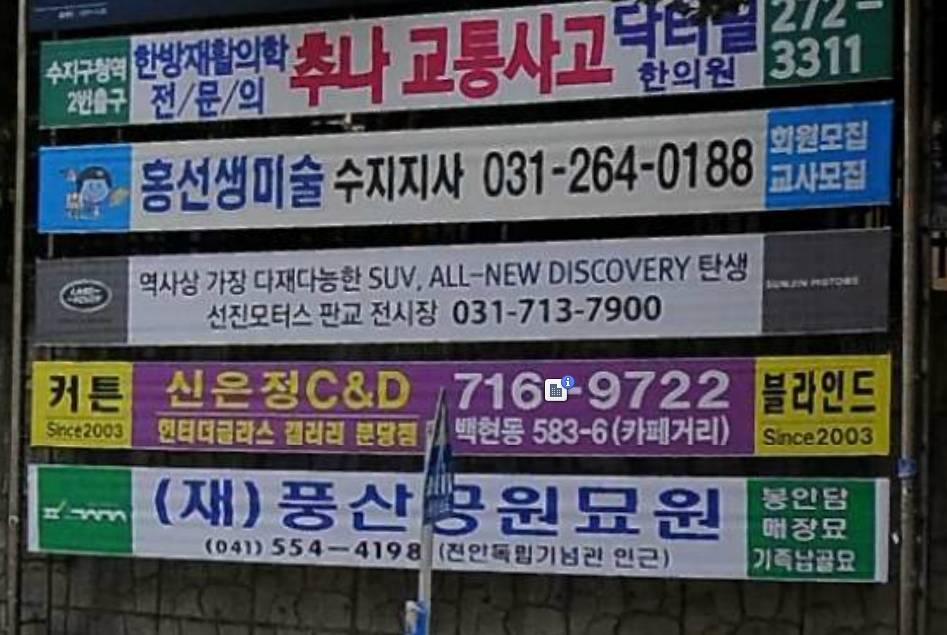banner: (34, 98, 907, 246), (34, 223, 913, 360), (38, 1, 888, 140), (21, 468, 907, 587), (17, 347, 908, 455)
